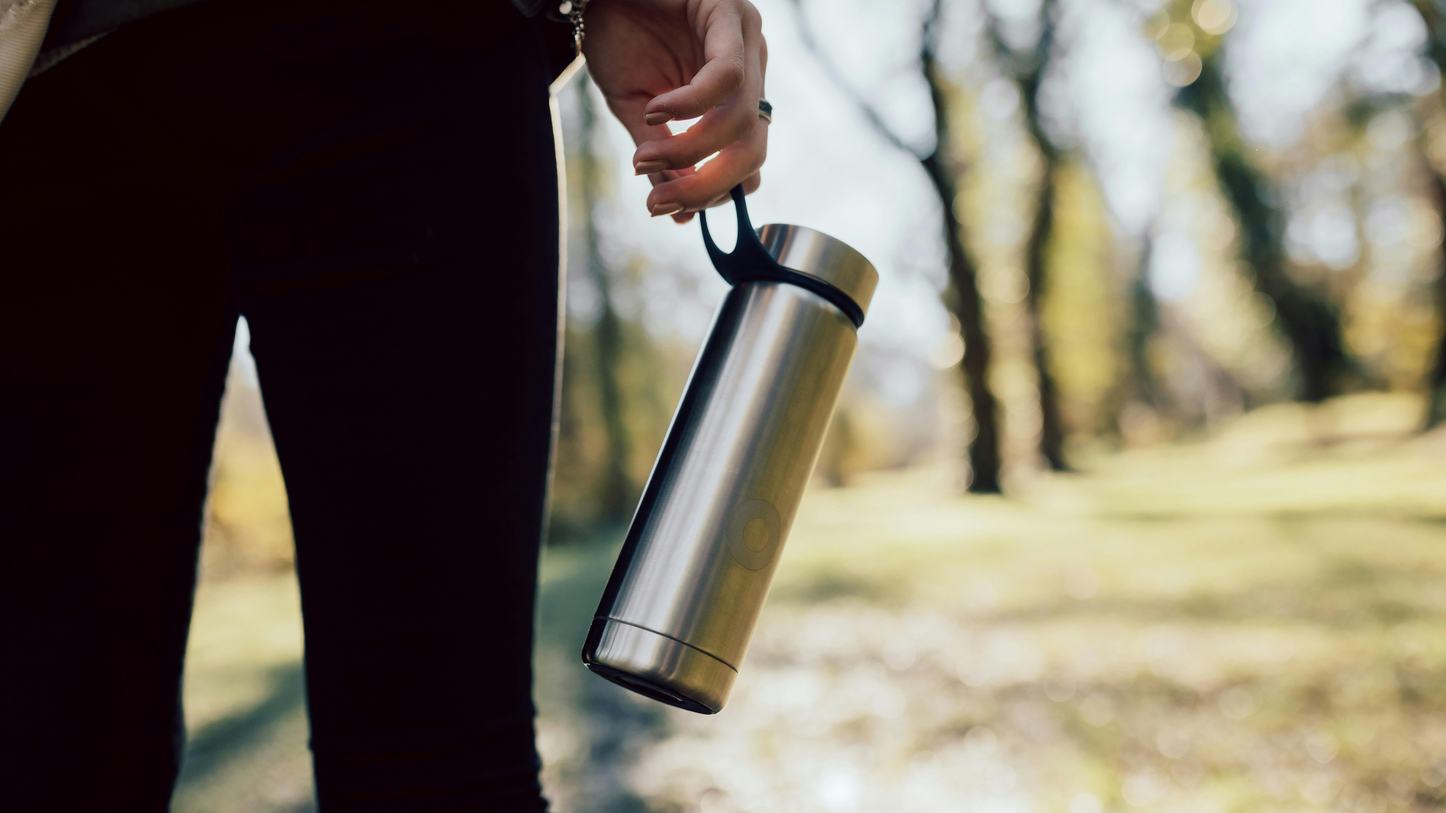Bottle-Detection: (553, 138, 917, 775)
